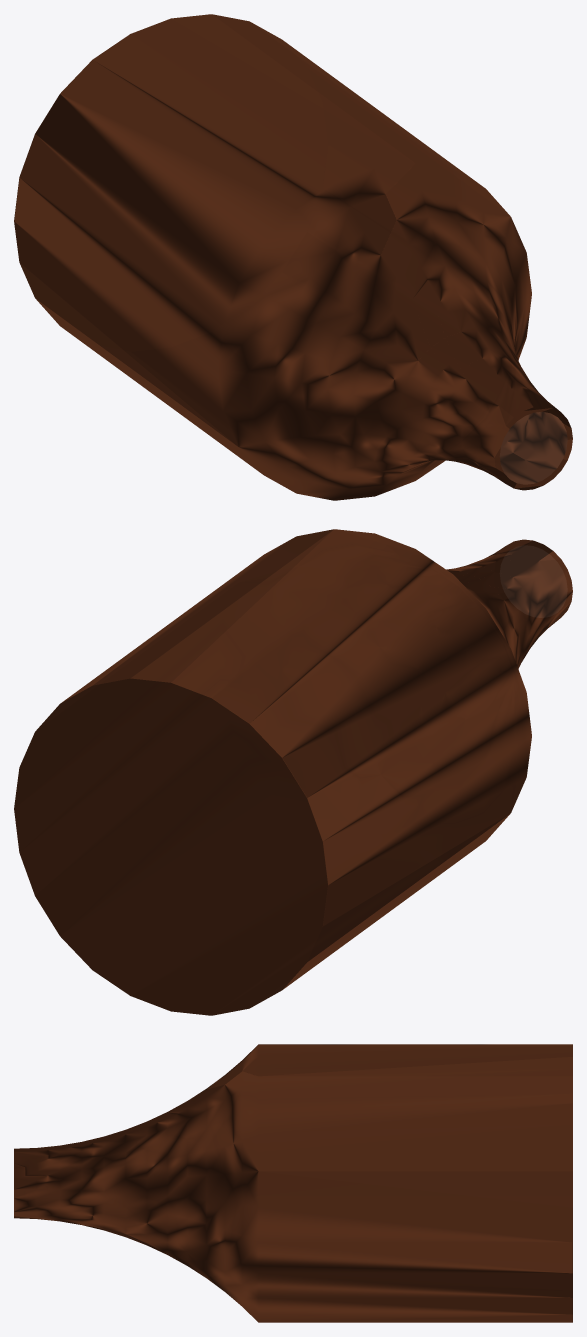
The model's file is model_align.obj.
The picture shows the model from 3 angles, top to bottom: view 1: azimuth 30°, elevation 25°; view 2: azimuth 150°, elevation 25°; view 3: azimuth 270°, elevation 25°; orthographic projection. The views are drawn at different scales.
Bounding box in the file's own units: 0.0947 × 0.0947 × 0.1895.
